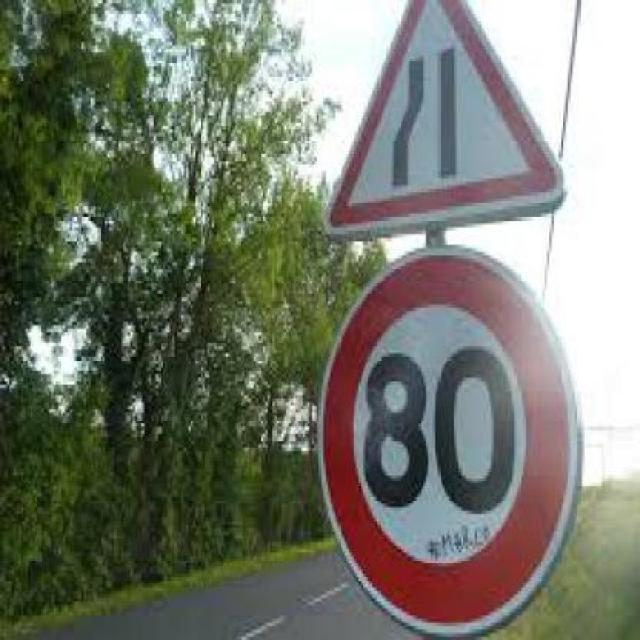forb_speed_over_80: (319, 253, 581, 635)
